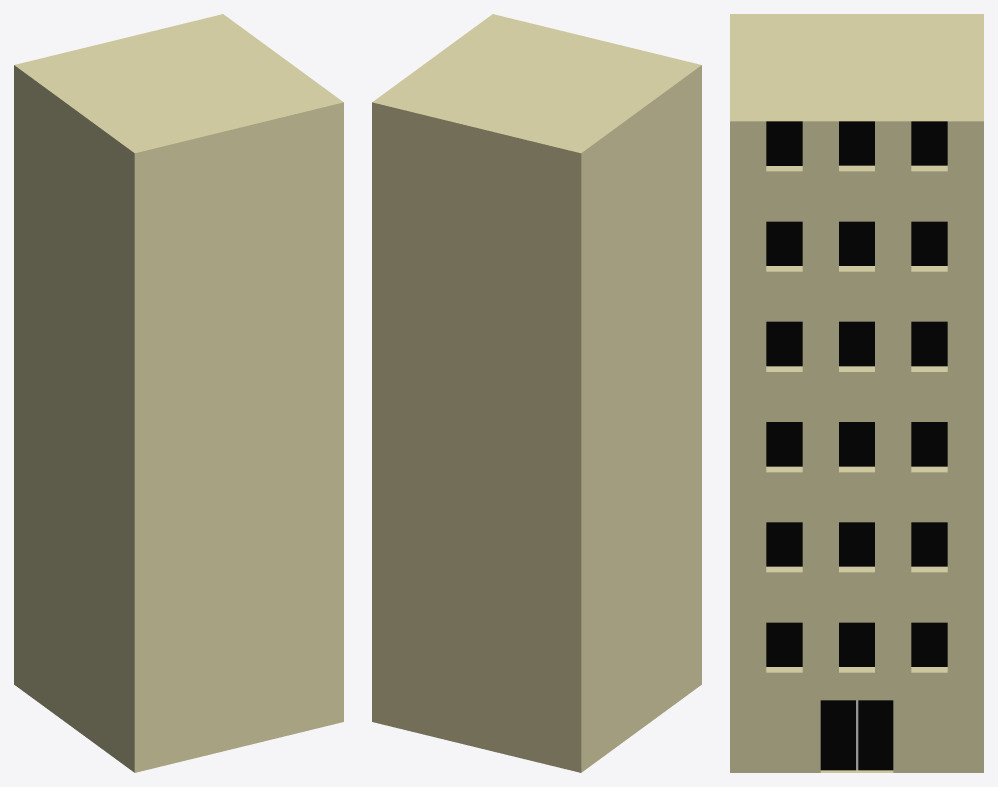
The model's file is BigBuilding.fbx.
The picture shows the model from 3 angles, left to right: view 1: azimuth 30°, elevation 25°; view 2: azimuth 150°, elevation 25°; view 3: azimuth 270°, elevation 25°; orthographic projection. The views are drawn at different scales.
Parts seen in each view (by area): view 1: Cube; view 2: Cube; view 3: Cube.
Boxes of the visible parts, x1=… form: Cube: x1=14, y1=14, x2=343, y2=772; Cube: x1=372, y1=14, x2=701, y2=772; Cube: x1=730, y1=14, x2=983, y2=772.
Bounding box in the file's own units: 200 × 566 × 200.
